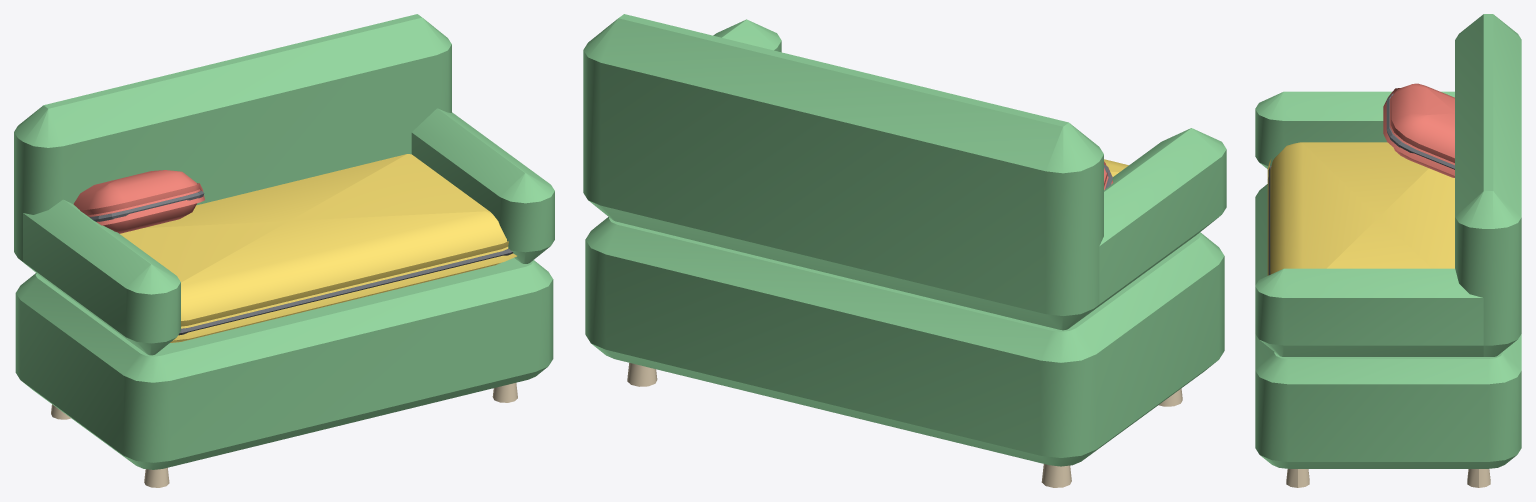
Rendered from ChildSofa.glb.
3 renders of one model, left to right at view 1: azimuth 30°, elevation 25°; view 2: azimuth 150°, elevation 25°; view 3: azimuth 270°, elevation 25°, orthographic. The views are drawn at different scales.
Visible parts, largest first — view 1: reading-corner-sofa; view 2: reading-corner-sofa; view 3: reading-corner-sofa.
Part boxes in pixels (bbox=[...]): reading-corner-sofa: bbox=[14, 14, 554, 487]; reading-corner-sofa: bbox=[583, 14, 1226, 487]; reading-corner-sofa: bbox=[1255, 14, 1521, 487].
Size of the model in its own units: 1 by 0.69 by 0.56.
